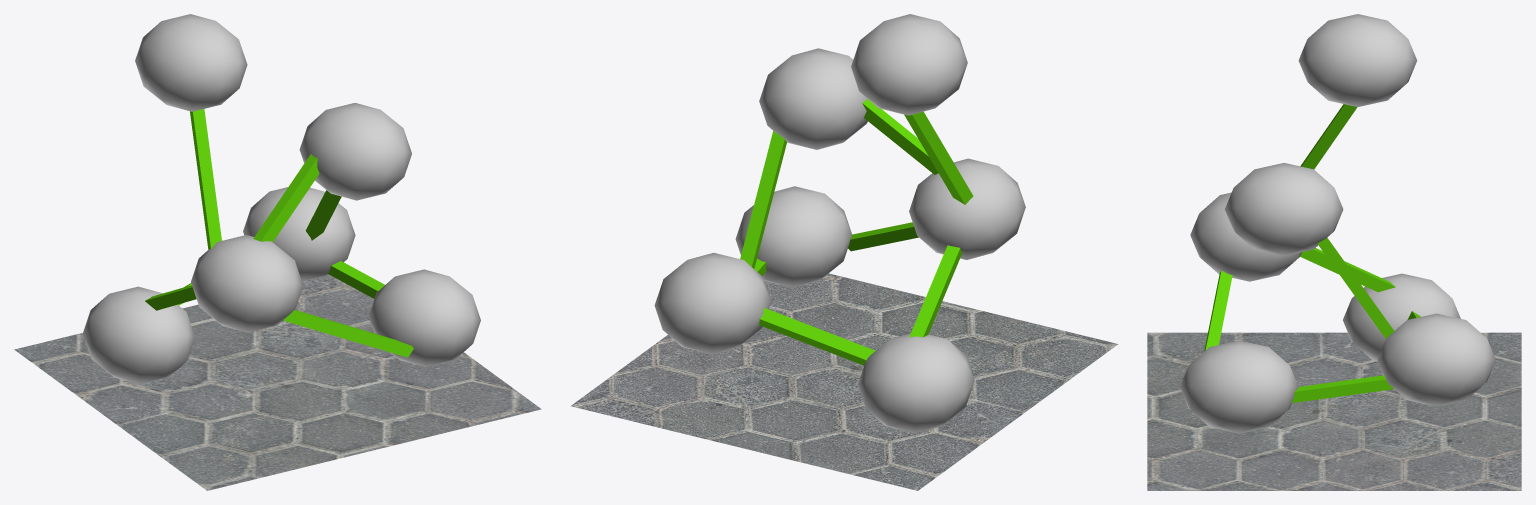
File: Mothballs_Grid.fbx
3 renders of one model, left to right at view 1: azimuth 30°, elevation 25°; view 2: azimuth 150°, elevation 25°; view 3: azimuth 270°, elevation 25°, orthographic. The views are drawn at different scales.
Visible parts, largest first — view 1: mothballs, Sphere__4_, Sphere__3_, Sphere__5_, Sphere__1_, Sphere__6_, Sphere__2_, Cube__4_, Cube__6_, Cube__5_, Cube.001, Cube__1_.001 (+1 smaller); view 2: mothballs, Sphere__4_, Sphere__1_, Sphere__2_, Sphere__5_, Sphere__3_, Sphere__6_, Cube__1_.001, Cube__2_.001, Cube__4_, Cube__3_, Cube__5_ (+1 smaller); view 3: mothballs, Sphere__4_, Sphere__2_, Sphere__5_, Sphere__6_, Sphere__1_, Sphere__3_, Cube.001, Cube__1_.001, Cube__4_, Cube__6_, Cube__3_.
Part boxes in pixels (x1,y1,x2,y2): mothballs: (14, 275, 541, 490); Sphere__4_: (135, 14, 247, 111); Sphere__3_: (191, 235, 303, 332); Sphere__5_: (299, 103, 411, 200); Sphere__1_: (83, 286, 195, 384); Sphere__6_: (368, 269, 480, 367); Sphere__2_: (243, 187, 355, 281); Cube__4_: (190, 109, 221, 249); Cube__6_: (283, 310, 413, 357); Cube__5_: (253, 154, 319, 242); Cube.001: (327, 261, 384, 298); Cube__1_.001: (305, 190, 341, 240); mothballs: (570, 273, 1118, 490); Sphere__4_: (851, 14, 967, 115); Sphere__1_: (858, 333, 974, 433); Sphere__2_: (654, 252, 771, 354); Sphere__5_: (759, 48, 867, 149); Sphere__3_: (909, 158, 1025, 259); Sphere__6_: (735, 186, 852, 287); Cube__1_.001: (740, 131, 786, 268); Cube__2_.001: (759, 308, 875, 365); Cube__4_: (904, 111, 973, 204); Cube__3_: (909, 245, 961, 337); Cube__5_: (862, 99, 938, 174); mothballs: (1147, 332, 1521, 490); Sphere__4_: (1298, 14, 1417, 106); Sphere__2_: (1377, 313, 1495, 406); Sphere__5_: (1224, 163, 1343, 255); Sphere__6_: (1180, 340, 1298, 433); Sphere__1_: (1343, 273, 1460, 361); Sphere__3_: (1190, 192, 1301, 281); Cube.001: (1291, 375, 1393, 403); Cube__1_.001: (1317, 237, 1394, 338); Cube__4_: (1300, 104, 1357, 169); Cube__6_: (1204, 270, 1232, 351); Cube__3_: (1300, 248, 1395, 292).
Bounding box in the file's own units: 10000 × 10510 × 10000.
